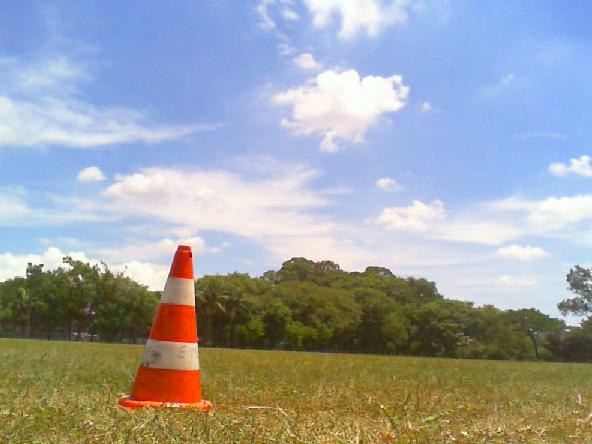0 cone: (119, 246, 212, 410)
